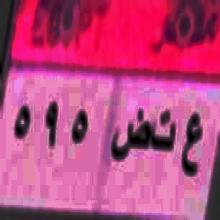5: (70, 93, 91, 162), (13, 95, 32, 152)
9: (43, 98, 59, 163)
ain: (180, 106, 203, 192)
daad: (110, 102, 151, 186)
taa: (152, 104, 176, 172)
